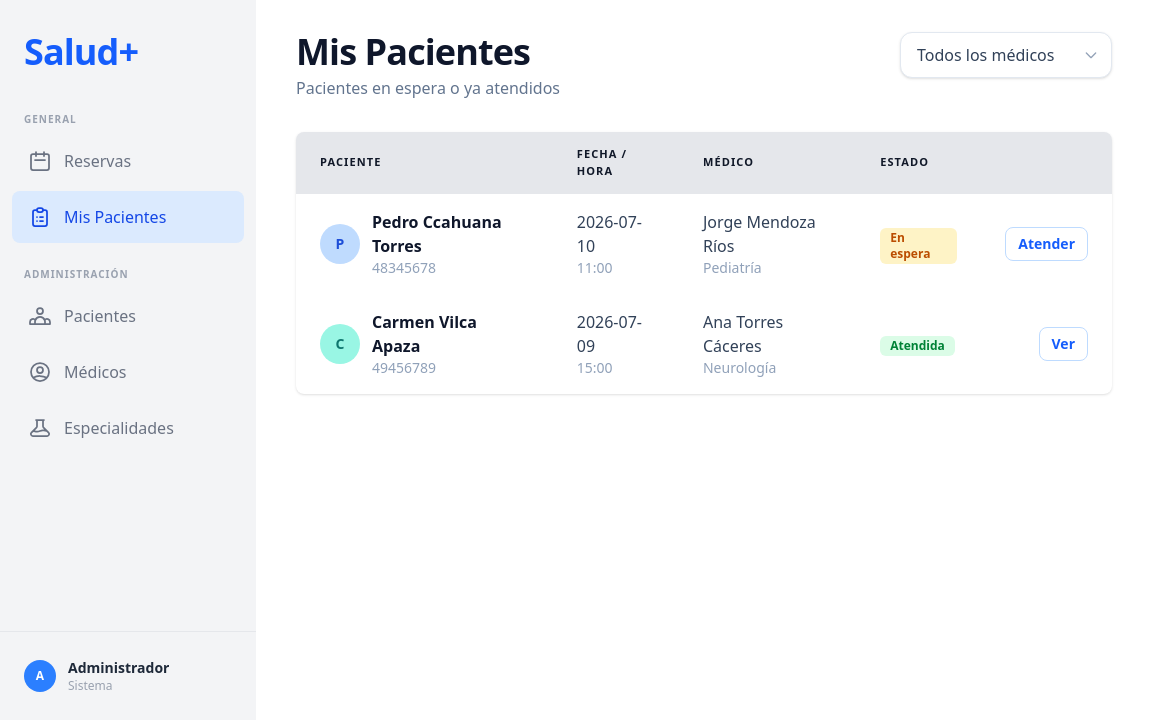
Test: Admin · Mis pacientes (pacientes en espera o atendidos) › filtra por médico
Select "Ana Torres Cáceres" in the dropdown: (1006, 55) [900,32,1112,78]
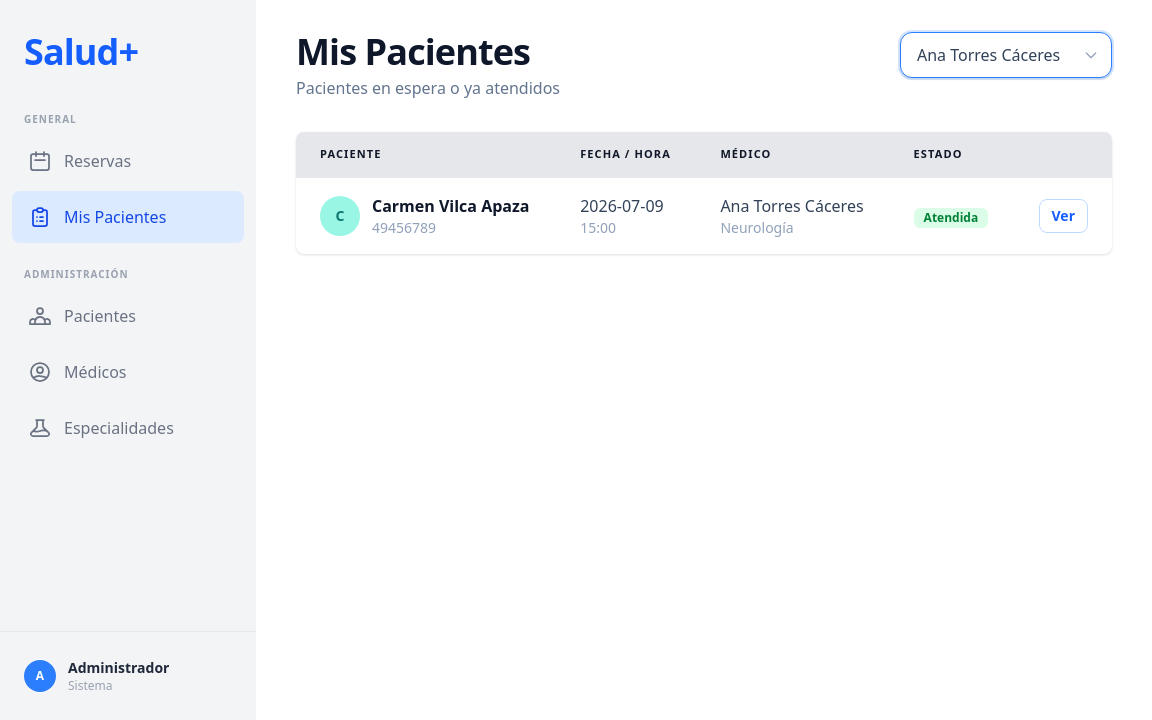
Expected: the text "Carmen Vilca Apaza" is shown, [372,195,529,217]
Result: the text "Pedro Ccahuana Torres" is gone
